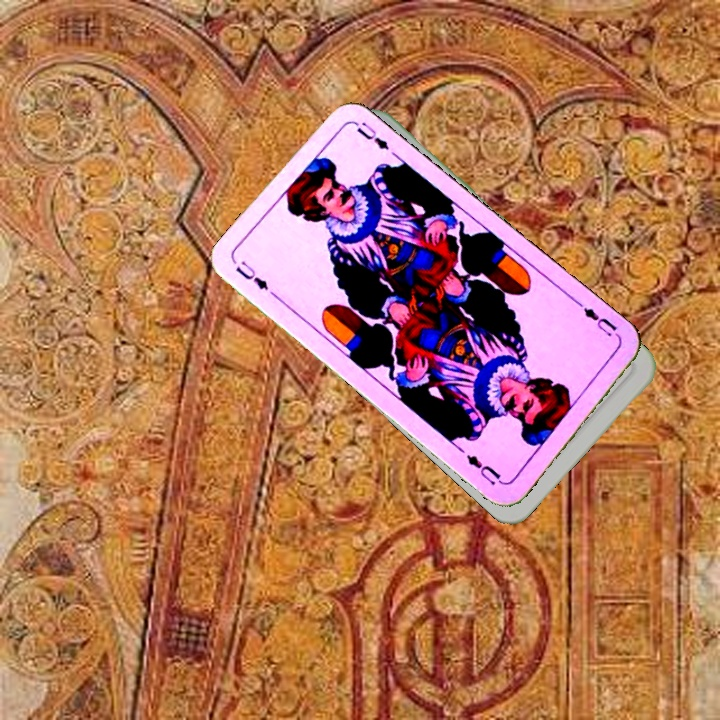EU: (574, 298, 623, 342), (231, 256, 272, 293)
